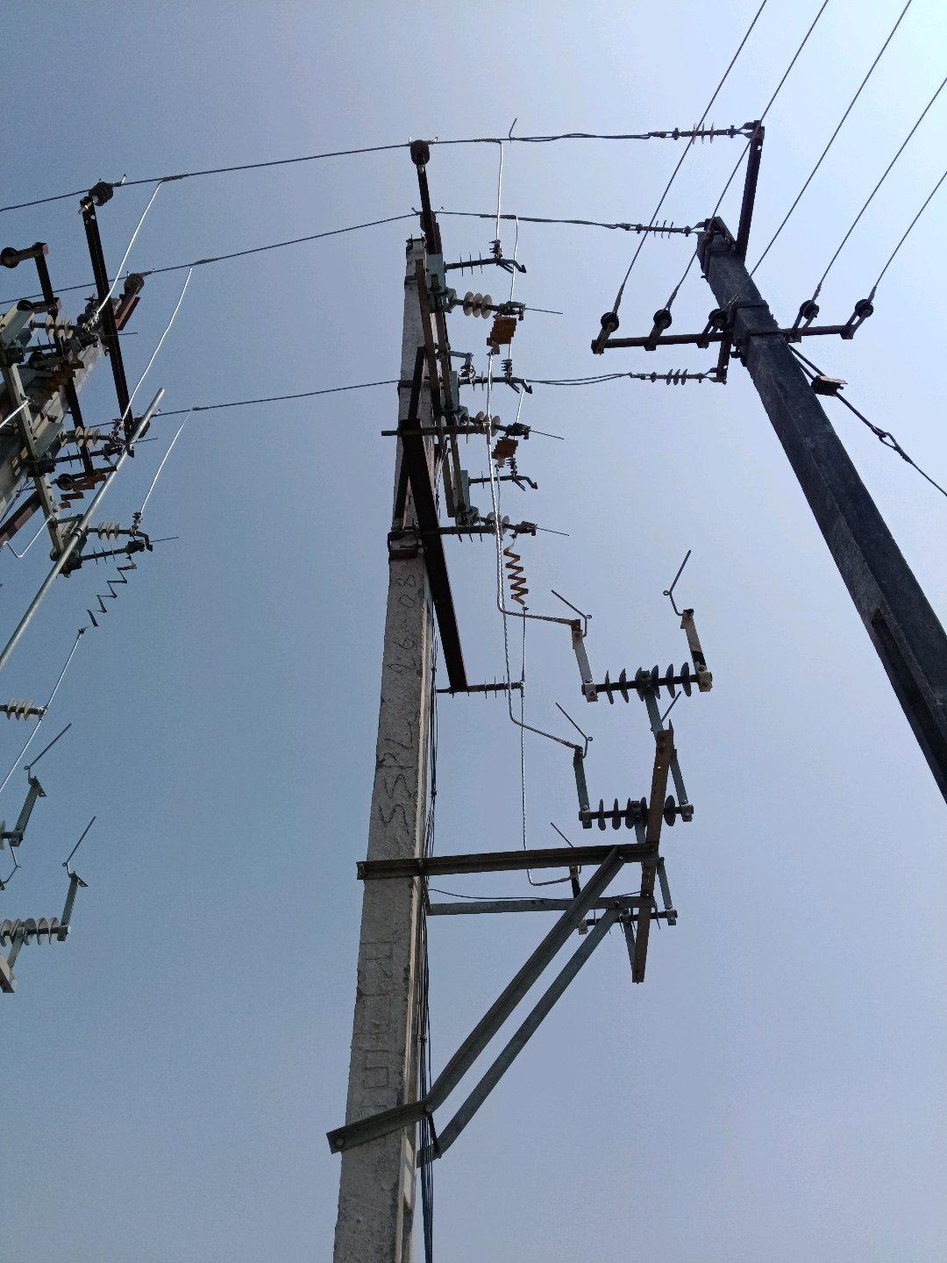{"0" "insulator", "1" "pole", "2" "crossarm", "3" "conductor", "4" "street_: (592, 124, 946, 802), (345, 140, 523, 1124), (332, 1125, 417, 1262), (510, 476, 516, 482), (491, 346, 497, 351)
